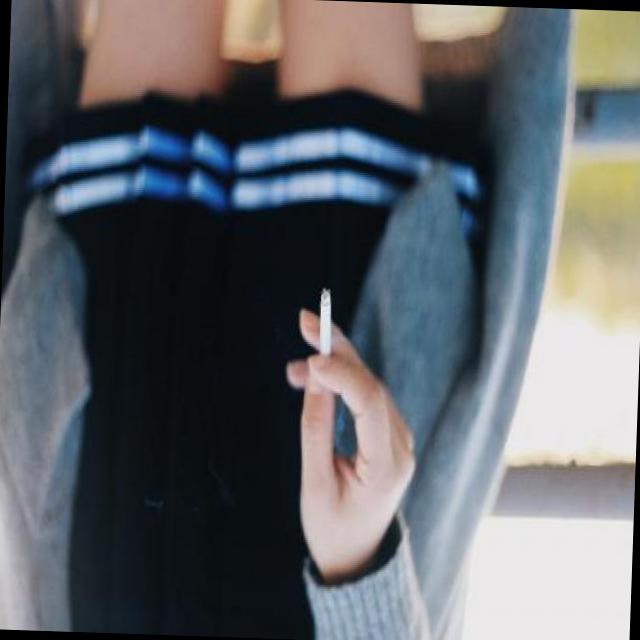smoke: (308, 286, 348, 392)
